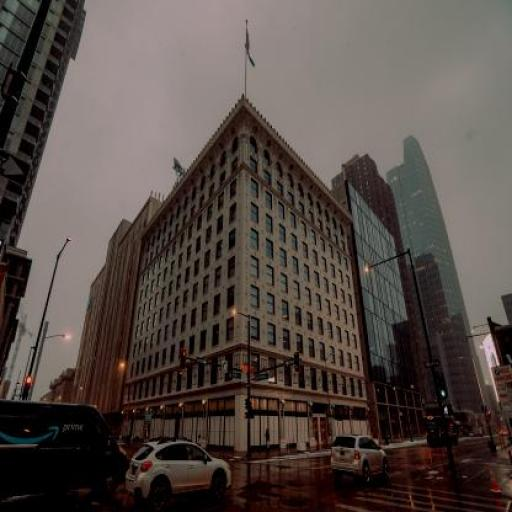street light: (364, 249, 459, 476), (24, 235, 72, 424), (30, 334, 72, 416), (233, 309, 253, 456), (120, 363, 130, 446)
